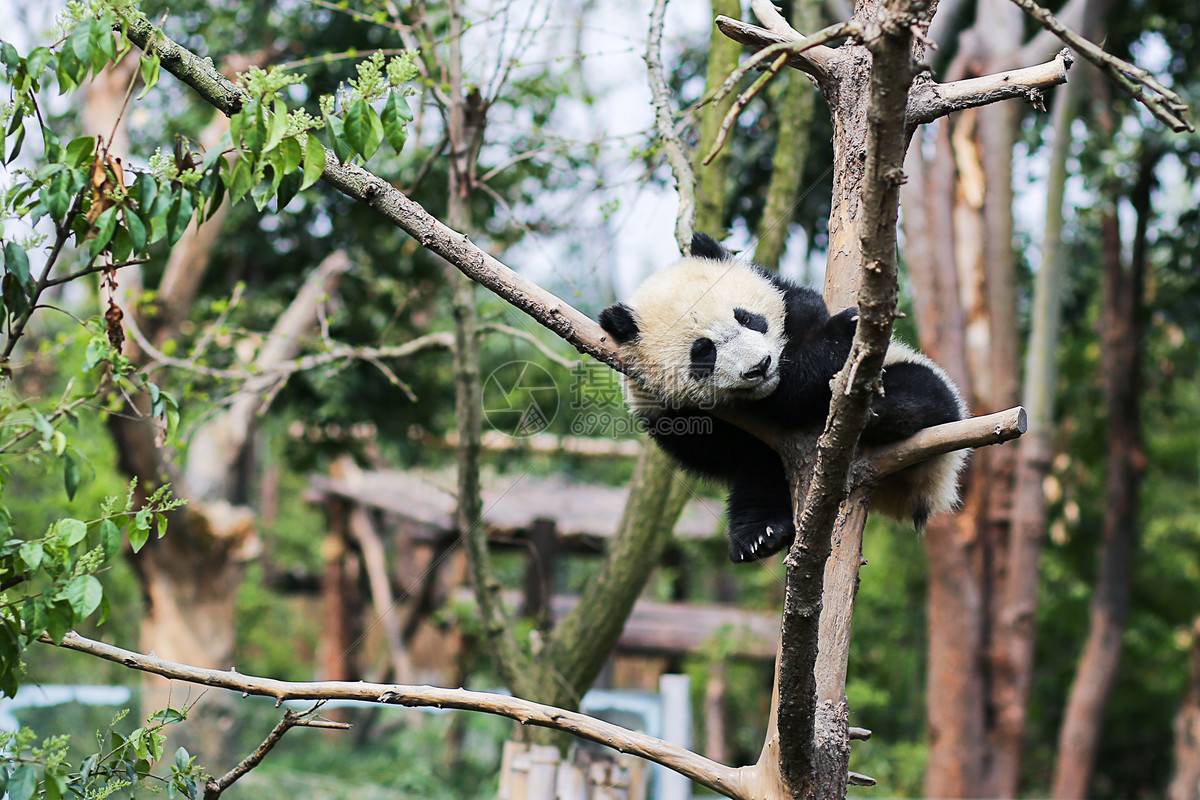panda: (576, 237, 990, 560)
